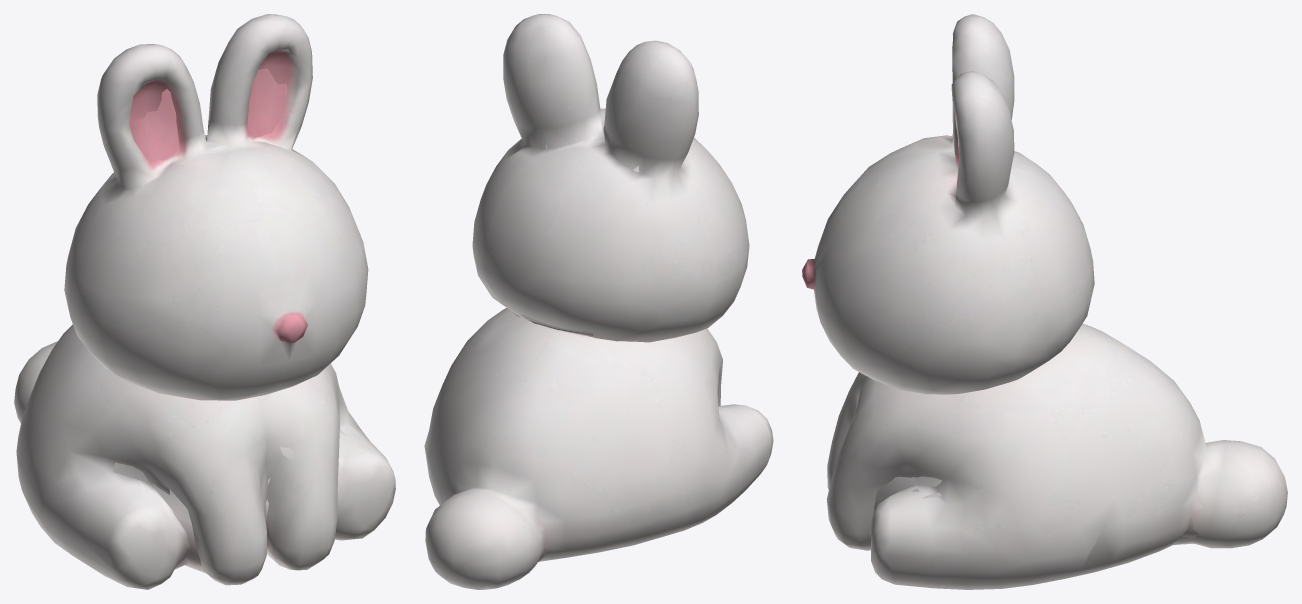
File: pet-bunny.glb
3 views of the same model, side by side, from view 1: azimuth 30°, elevation 25°; view 2: azimuth 150°, elevation 25°; view 3: azimuth 270°, elevation 25° (orthographic). The views are drawn at different scales.
Visible parts, largest first — view 1: geometry_0; view 2: geometry_0; view 3: geometry_0.
Part boxes in pixels (x1,y1,x2,y2): geometry_0: (14,14,395,589); geometry_0: (424,14,773,589); geometry_0: (802,14,1287,589).
Size of the model in its own units: 0.6254 by 1 by 0.8992.
1 material, 1 textured.
